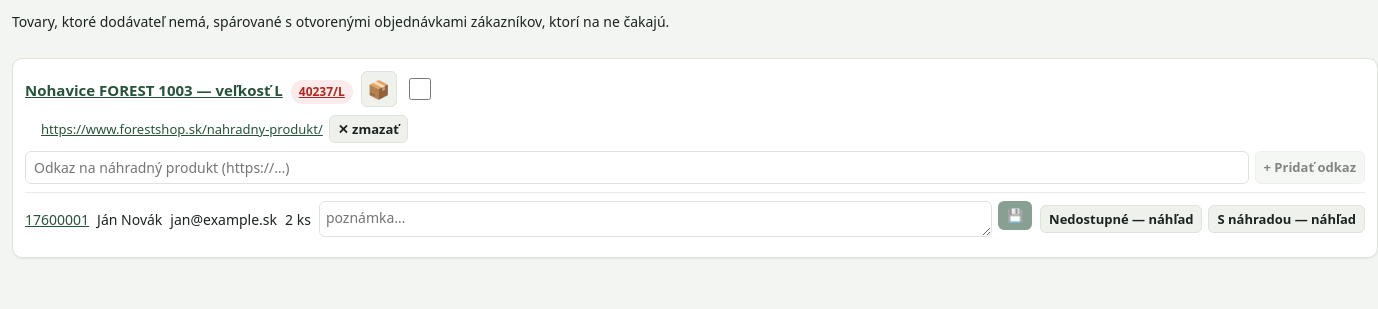
manazer pridá ručný odkaz náhrady — vstup sa vyprázdni a zoznam sa znova načíta
Type "https://www.forestshop.sk/druhy/" into the field with test id "nedostupne-replacement-link-input-40237/L" at [637, 168], box left=25, top=151, right=1248, bottom=184
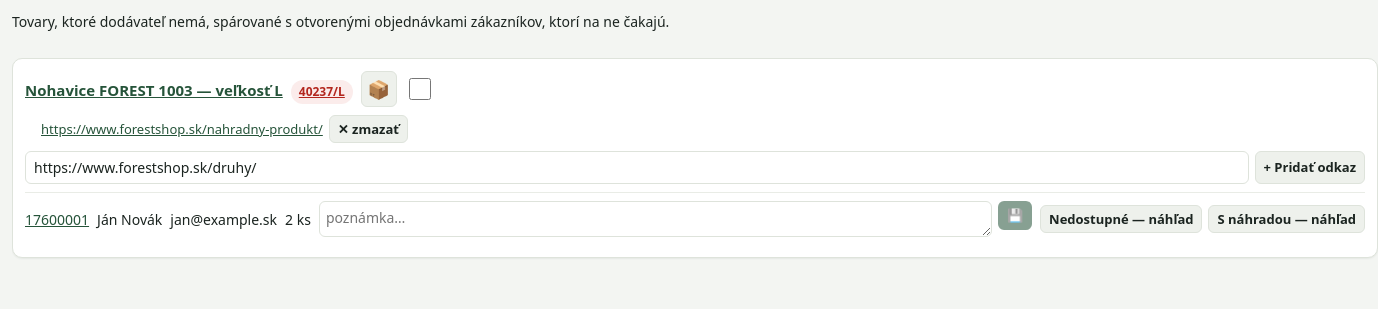
Click the button with test id "nedostupne-replacement-link-add-40237/L" at [1310, 168], box left=1254, top=151, right=1365, bottom=184
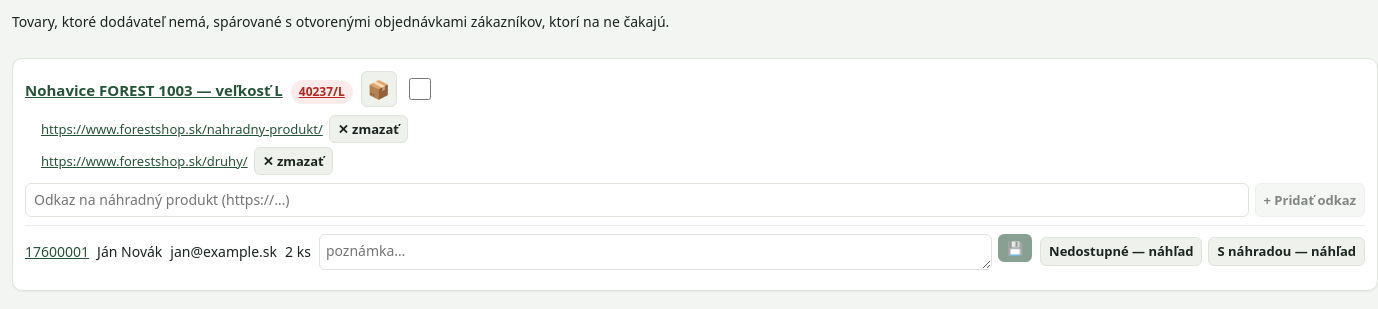
Now the link "https://www.forestshop.sk/druhy/" is shown, box left=41, top=152, right=248, bottom=170
Now the field with test id "nedostupne-replacement-link-input-40237/L" is empty, box left=25, top=183, right=1248, bottom=217
